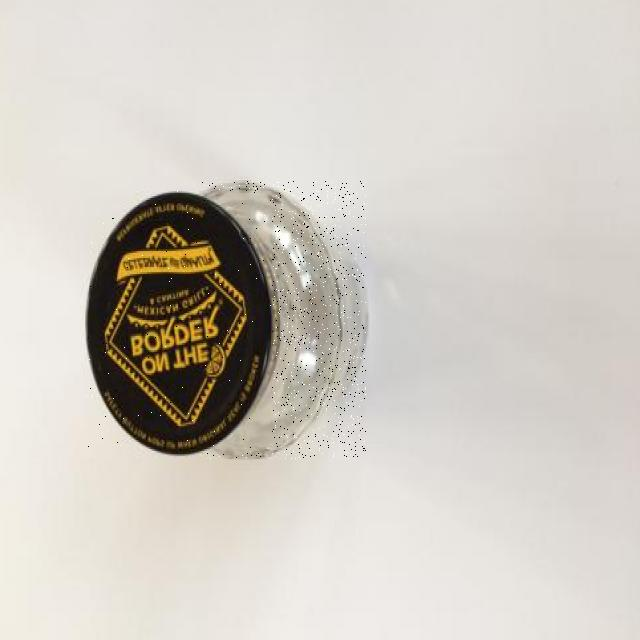glass: (202, 181, 366, 458)
metal: (87, 191, 272, 452)
